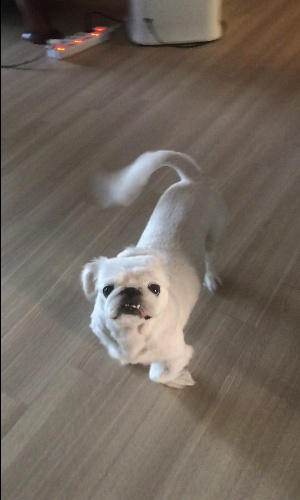ddubi: (78, 144, 231, 393)
